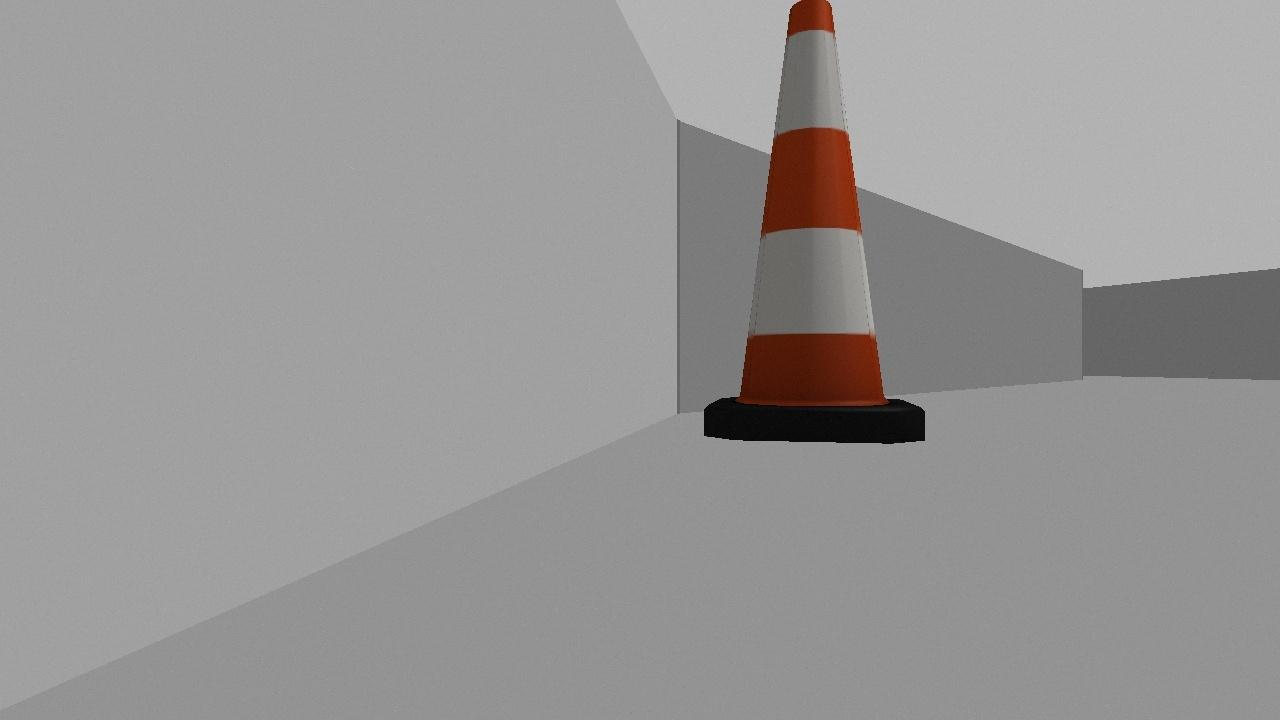cone_barrel: (677, 0, 946, 455)
